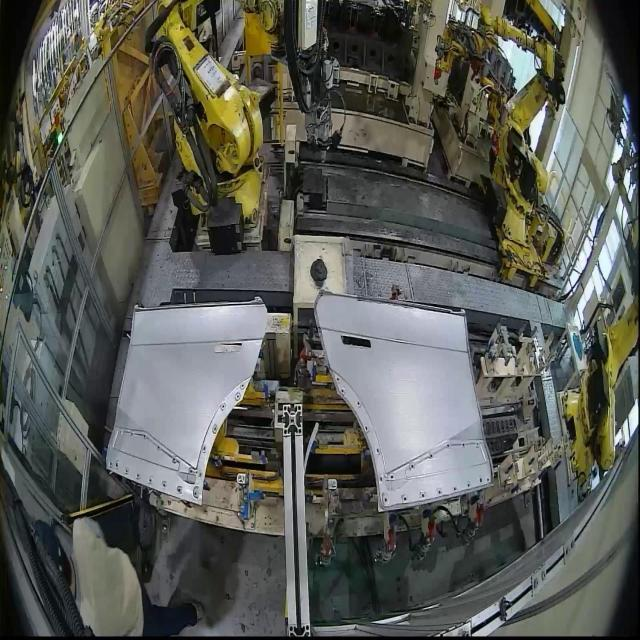Person: (29, 503, 209, 640)
